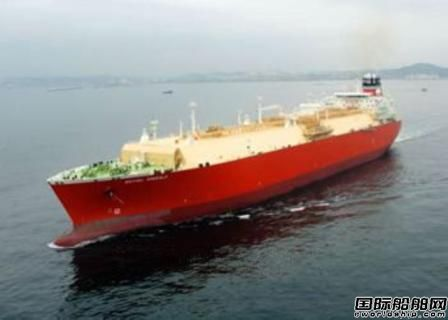Cargoship: (41, 80, 402, 256)
